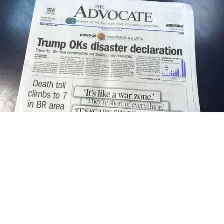news_paper: (13, 0, 201, 112)
